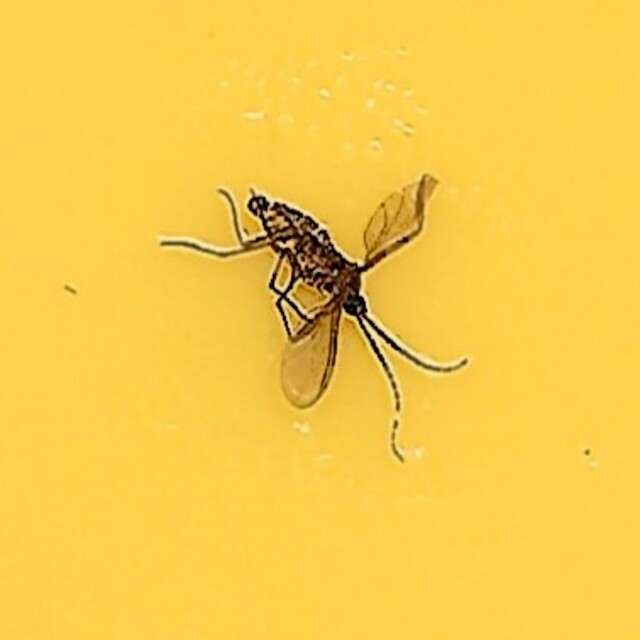Nematocera: (169, 174, 471, 466)
